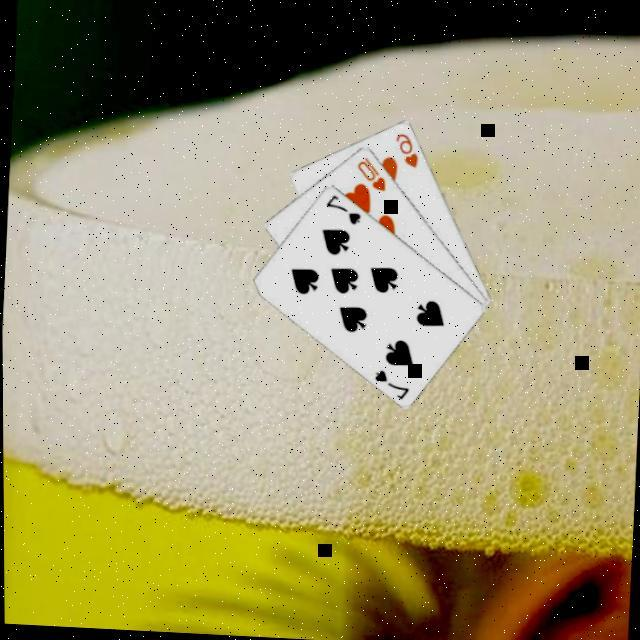10H: (354, 152, 390, 192)
6H: (392, 128, 424, 169)
7S: (322, 188, 366, 226), (371, 364, 414, 399)
